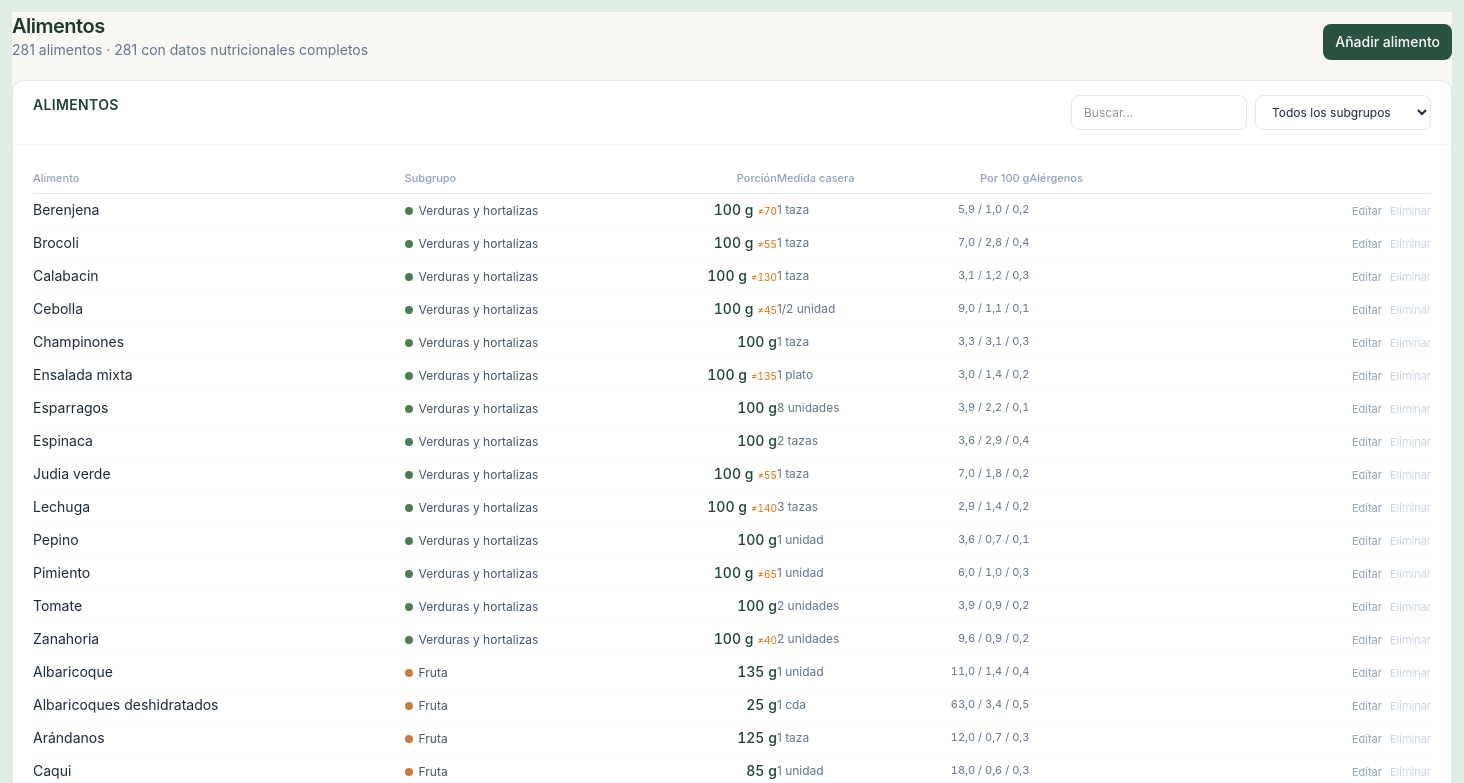
Test: Editar un alimento sube al formulario › añadir un alimento abre el formulario y sube
The image size is (1464, 783).
Click the button "Añadir alimento" at point(1388, 42), box [1323,24,1452,60]
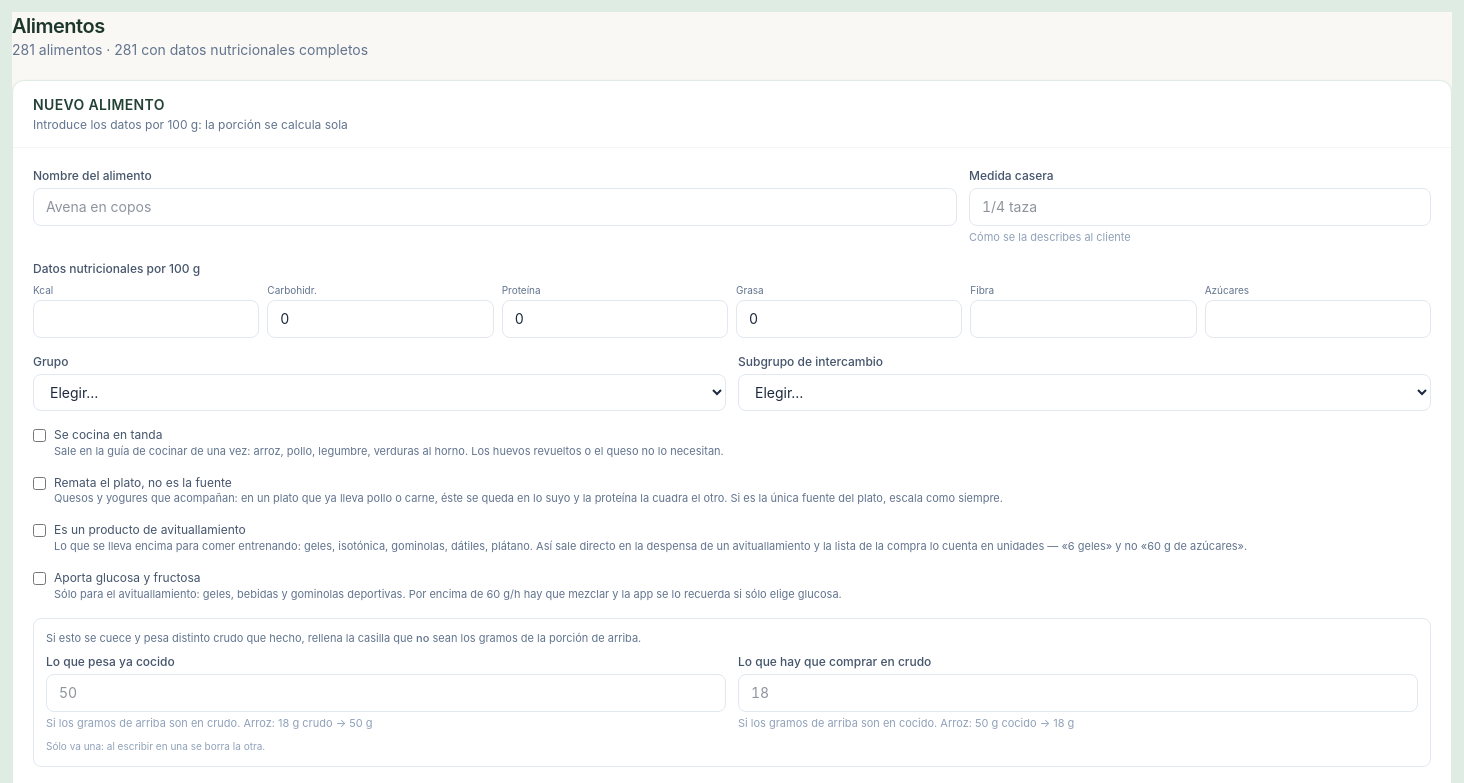
Check: the heading "Nuevo alimento" is shown, box [33,96,165,113]
